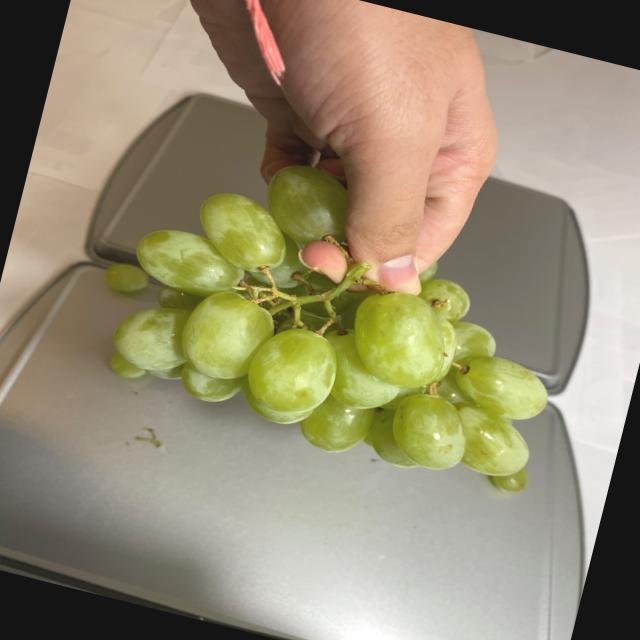grapes: (80, 126, 592, 483)
